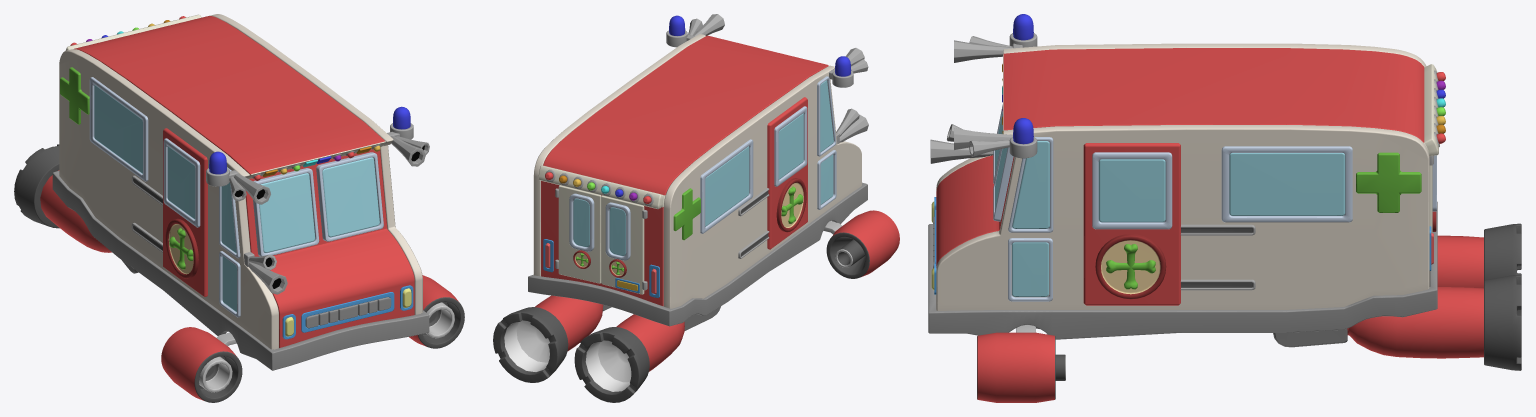
Rendered from SM_Car_02.fbx.
3 renders of one model, left to right at view 1: azimuth 30°, elevation 25°; view 2: azimuth 150°, elevation 25°; view 3: azimuth 270°, elevation 25°, orthographic. The views are drawn at different scales.
Visible parts, largest first — view 1: SM_Car_02; view 2: SM_Car_02; view 3: SM_Car_02.
Part boxes in pixels (<box>): SM_Car_02: <box>14,14,464,402</box>; SM_Car_02: <box>493,14,899,402</box>; SM_Car_02: <box>928,14,1521,402</box>.
Size of the model in its own units: 1138 by 935 by 1836.
